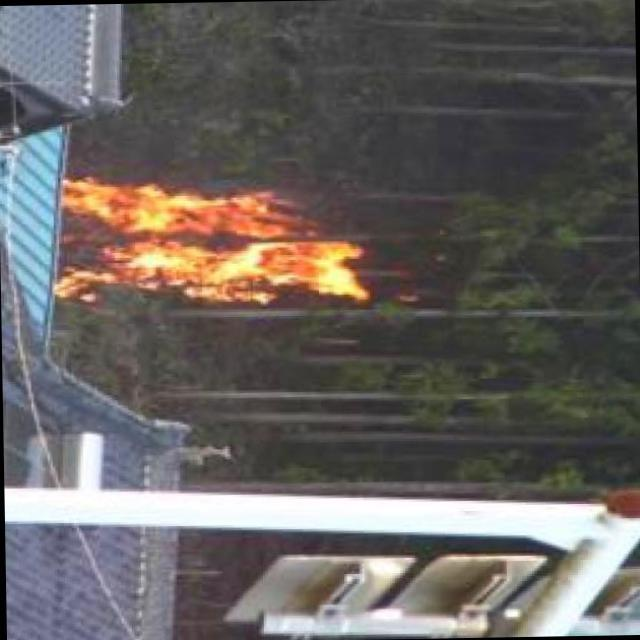Fire: (44, 174, 369, 328)
